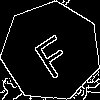F: (26, 26, 77, 81)
